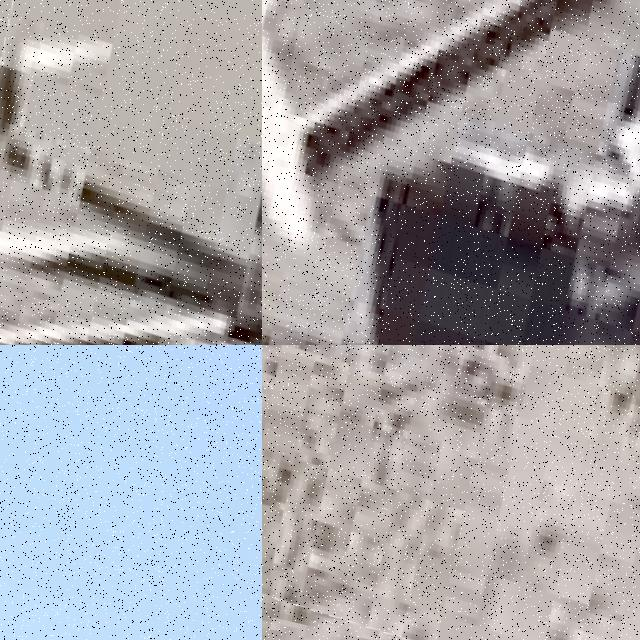drone: (262, 0, 640, 345), (262, 345, 640, 640), (0, 0, 262, 345), (0, 345, 262, 640)
